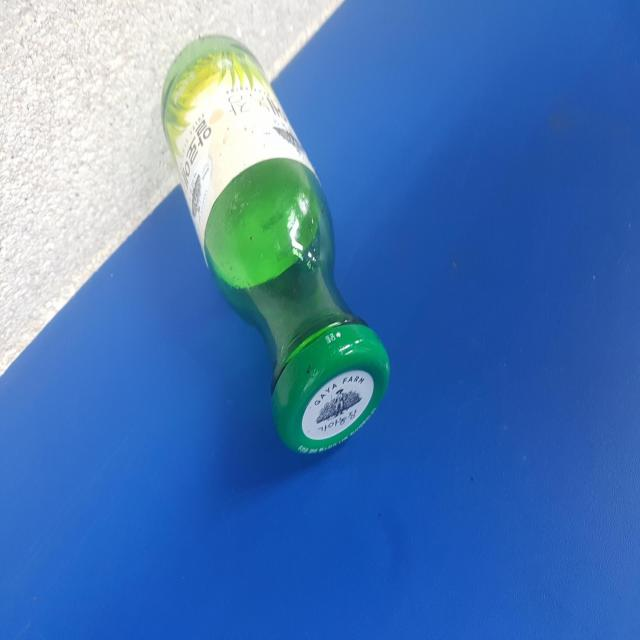glass: (162, 36, 389, 452)
